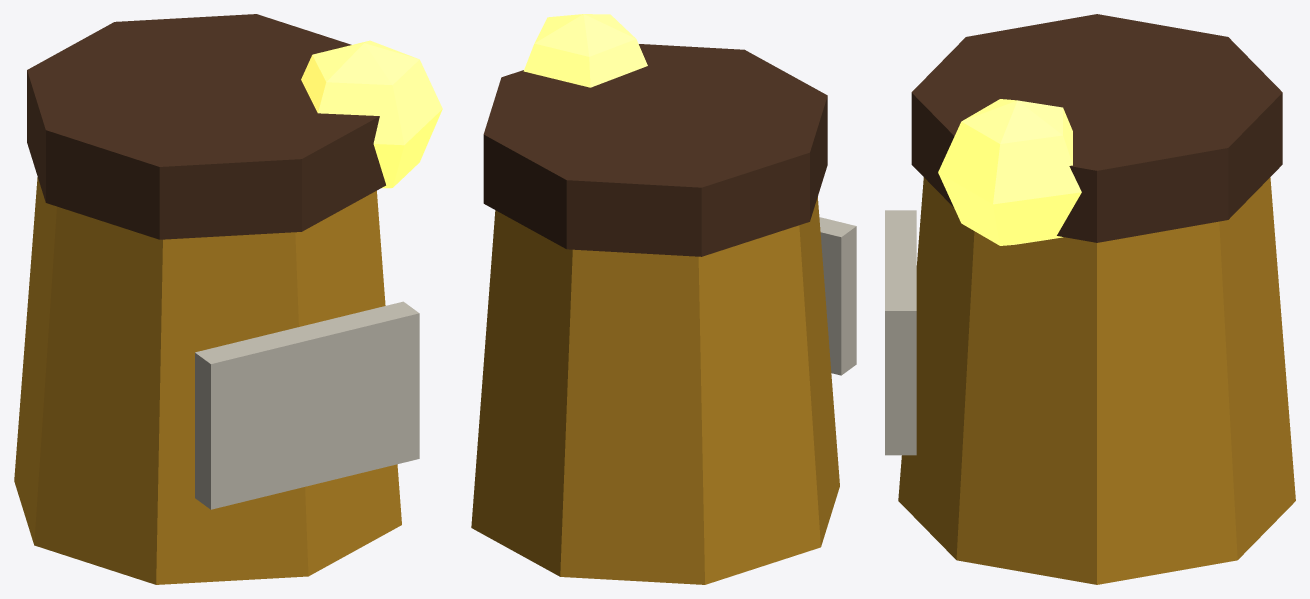
Rendered from item_honey.glb.
3 views of the same model, side by side, from view 1: azimuth 30°, elevation 25°; view 2: azimuth 150°, elevation 25°; view 3: azimuth 270°, elevation 25° (orthographic). The views are drawn at different scales.
Visible parts, largest first — view 1: item_honey; view 2: item_honey; view 3: item_honey.
Part boxes in pixels (x1,y1,x2,y2): item_honey: (14,14,442,584); item_honey: (471,14,856,584); item_honey: (885,14,1295,584).
Bounding box in the file's own units: 0.1535 × 0.19 × 0.155.
